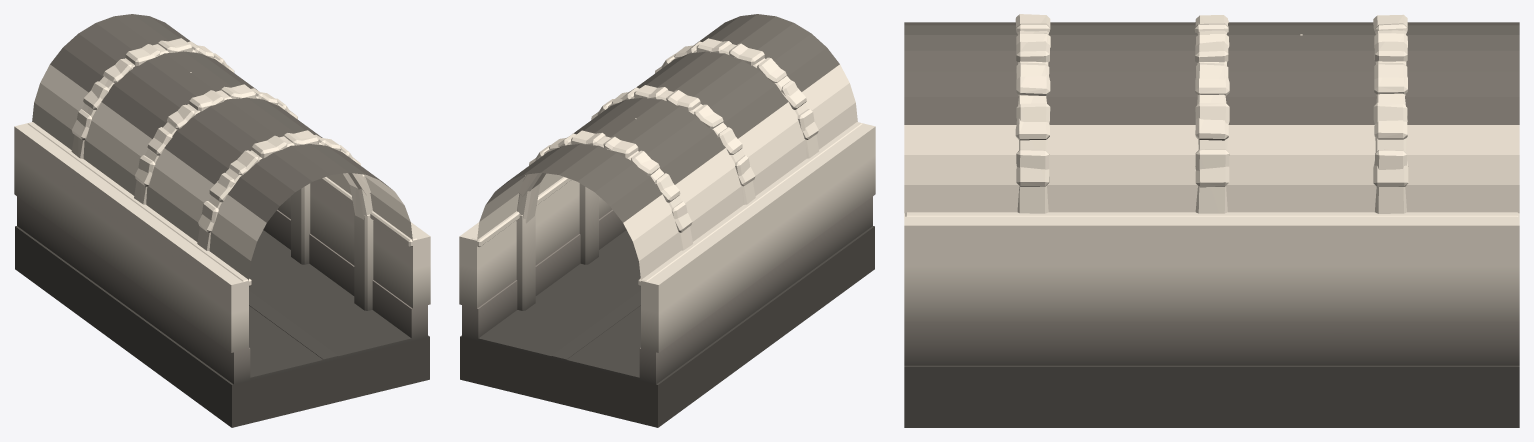
The model's file is SM_VK_Passage_Vault.fbx.
3 views of the same model, side by side, from view 1: azimuth 30°, elevation 25°; view 2: azimuth 150°, elevation 25°; view 3: azimuth 270°, elevation 25° (orthographic). The views are drawn at different scales.
Parts seen in each view (by area): view 1: SM_VK_Passage_Vault.001; view 2: SM_VK_Passage_Vault.001; view 3: SM_VK_Passage_Vault.001.
Boxes of the visible parts, x1,y1,x2,y2 form: SM_VK_Passage_Vault.001: [14, 14, 430, 427]; SM_VK_Passage_Vault.001: [459, 14, 875, 427]; SM_VK_Passage_Vault.001: [904, 14, 1519, 427].
Bounding box in the file's own units: 2.92 × 3.26 × 5.5.
